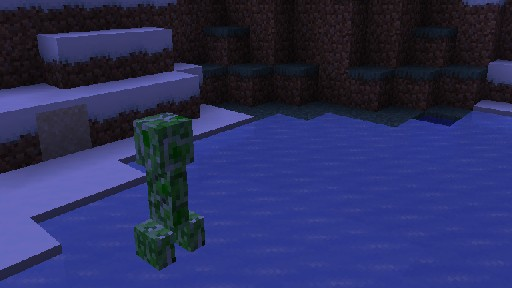creeper: (132, 111, 205, 270)
